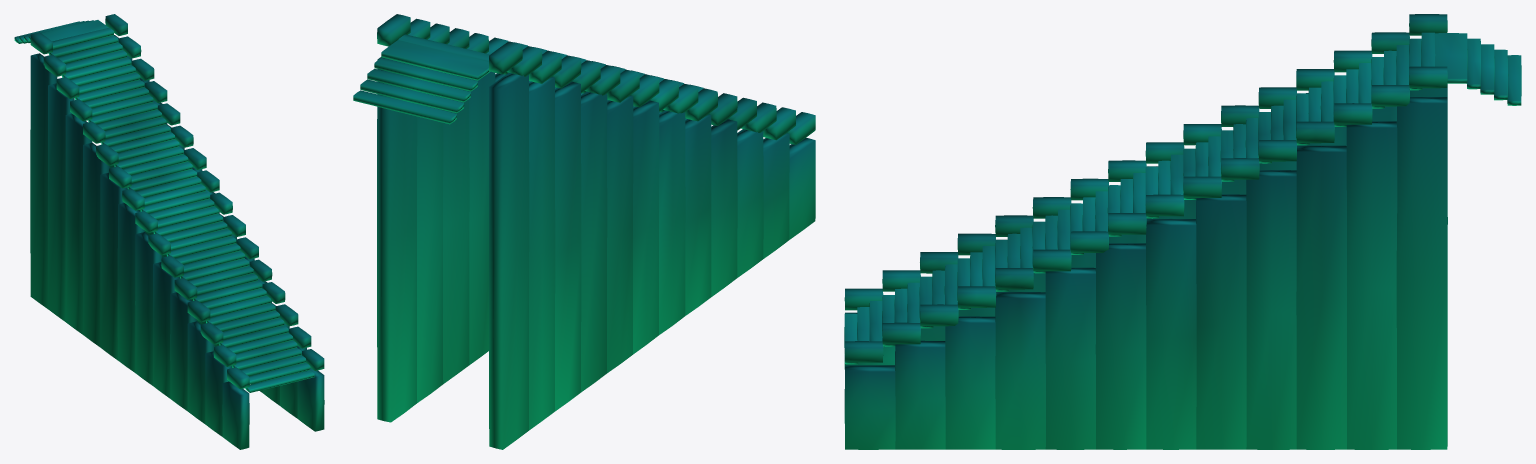
The model's file is mole_sea_stair.glb.
The picture shows the model from 3 angles, left to right: view 1: azimuth 30°, elevation 25°; view 2: azimuth 150°, elevation 25°; view 3: azimuth 270°, elevation 25°; orthographic projection. The views are drawn at different scales.
Visible parts, largest first — view 1: mole_sea_stair; view 2: mole_sea_stair; view 3: mole_sea_stair.
Part boxes in pixels (<box>): mole_sea_stair: <box>14,14,324,449</box>; mole_sea_stair: <box>353,14,815,449</box>; mole_sea_stair: <box>844,14,1521,449</box>.
Size of what is drawn, in the model's own units: 5.21 by 15.4 by 25.05.
